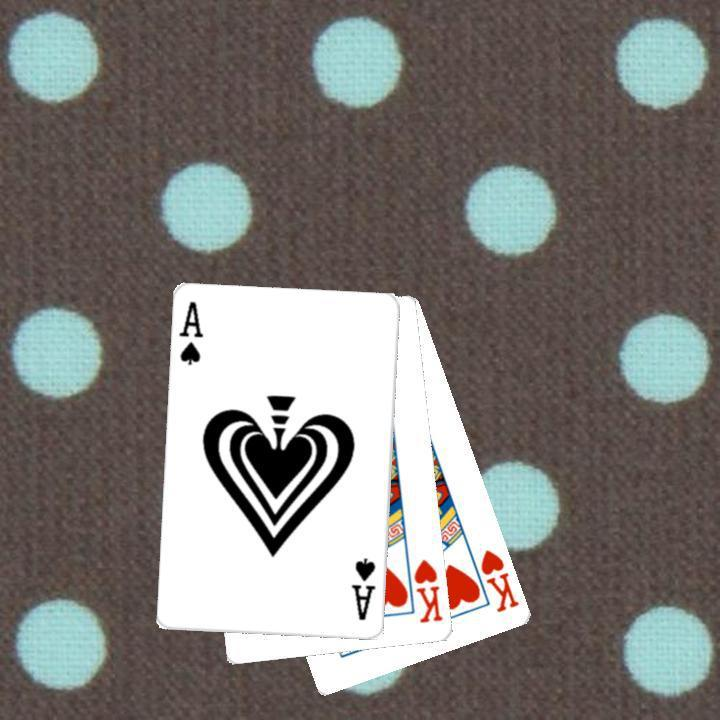A: (347, 554, 379, 623), (175, 297, 205, 368)
K: (476, 545, 522, 615), (410, 555, 445, 625)
